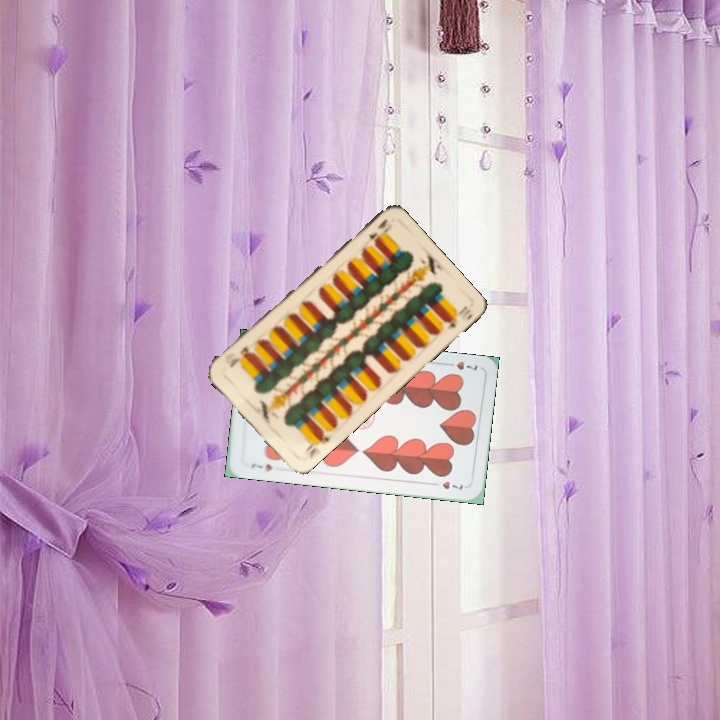E10: (301, 427, 332, 461), (364, 215, 392, 244)
H7: (441, 357, 480, 373), (247, 460, 275, 474)
